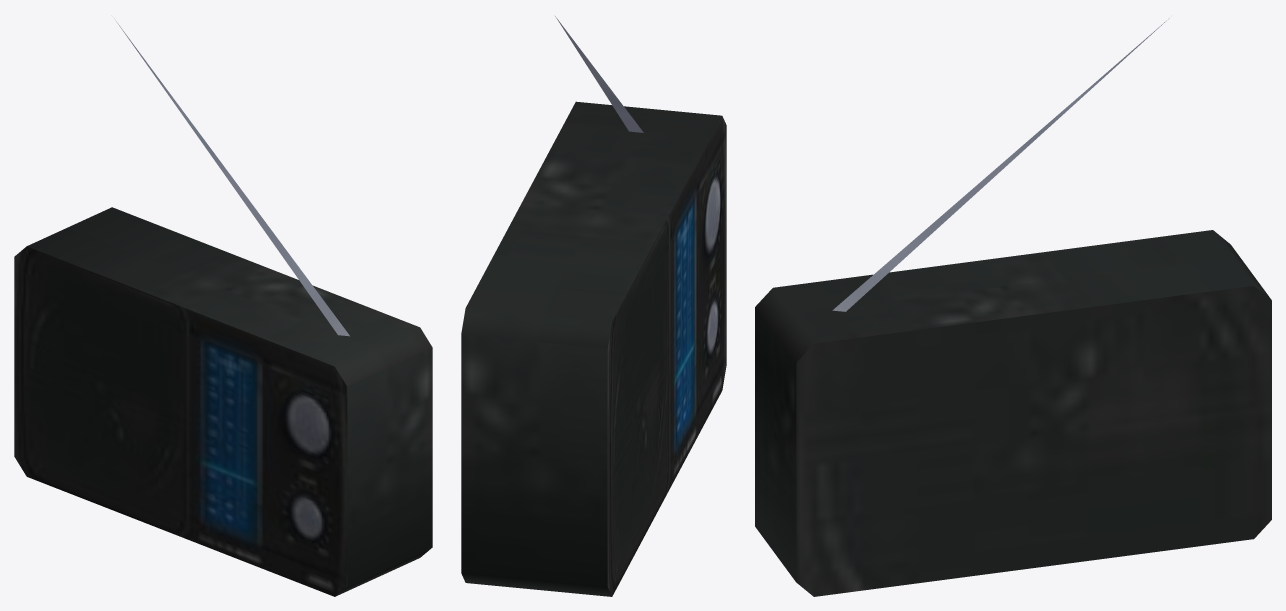
The picture shows the model from 3 angles, left to right: view 1: azimuth 30°, elevation 25°; view 2: azimuth 150°, elevation 25°; view 3: azimuth 270°, elevation 25°; orthographic projection. The views are drawn at different scales.
Parts seen in each view (by area): view 1: Radio_01002_Electronics001_0; view 2: Radio_01002_Electronics001_0; view 3: Radio_01002_Electronics001_0.
Boxes of the visible parts, <box> form: Radio_01002_Electronics001_0: <box>14,18,432,596</box>; Radio_01002_Electronics001_0: <box>461,16,726,596</box>; Radio_01002_Electronics001_0: <box>755,18,1271,596</box>.
Bounding box in the file's own units: 0.3276 × 0.6517 × 0.6045.
Materials: 1 (1 with a texture image).
